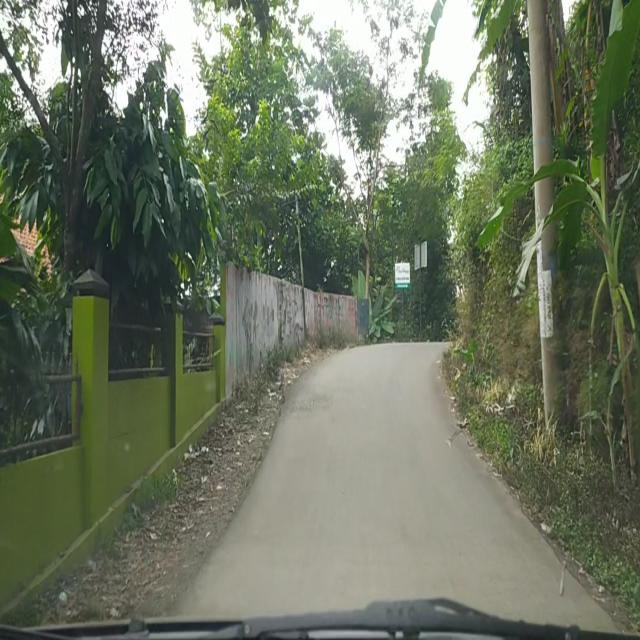Drain Hole: (285, 382, 337, 414)
